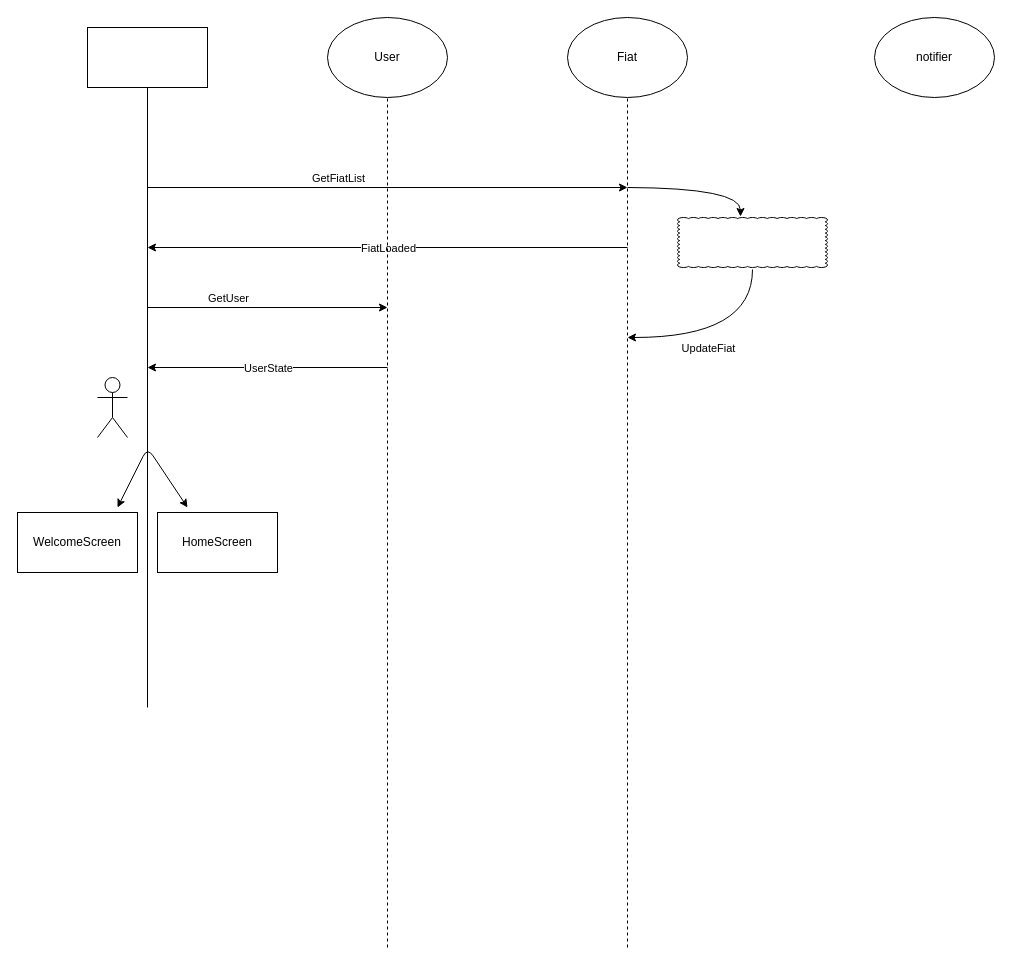
Some shapes in this 1012 by 966 pixel diagram are drawn without their labels. The shapes that lost their labels are listed below. From the top down, each one's centre as x and y in pixels, then its label:
point 147,57: LandingScreen
point 752,242: Listener
